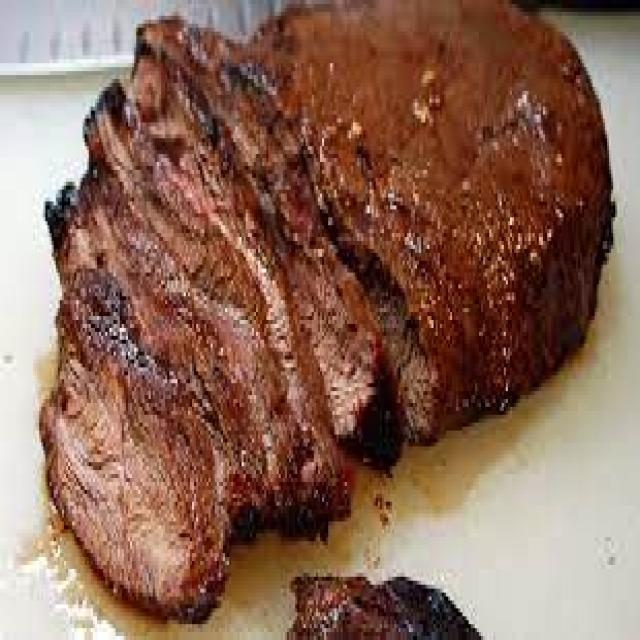Carne: (37, 0, 615, 624)
